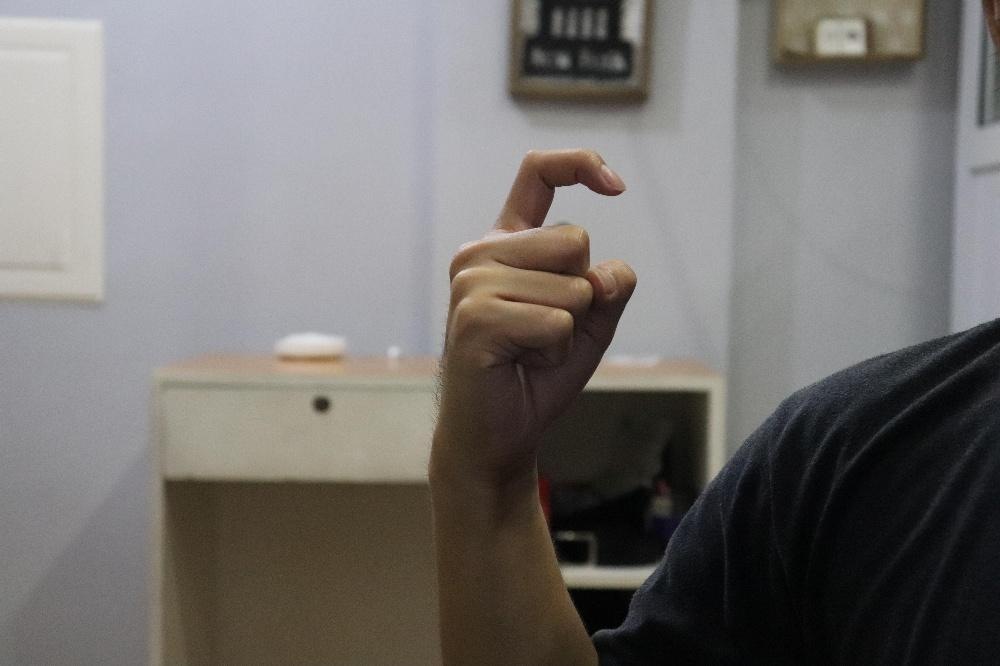x: (428, 147, 637, 480)
